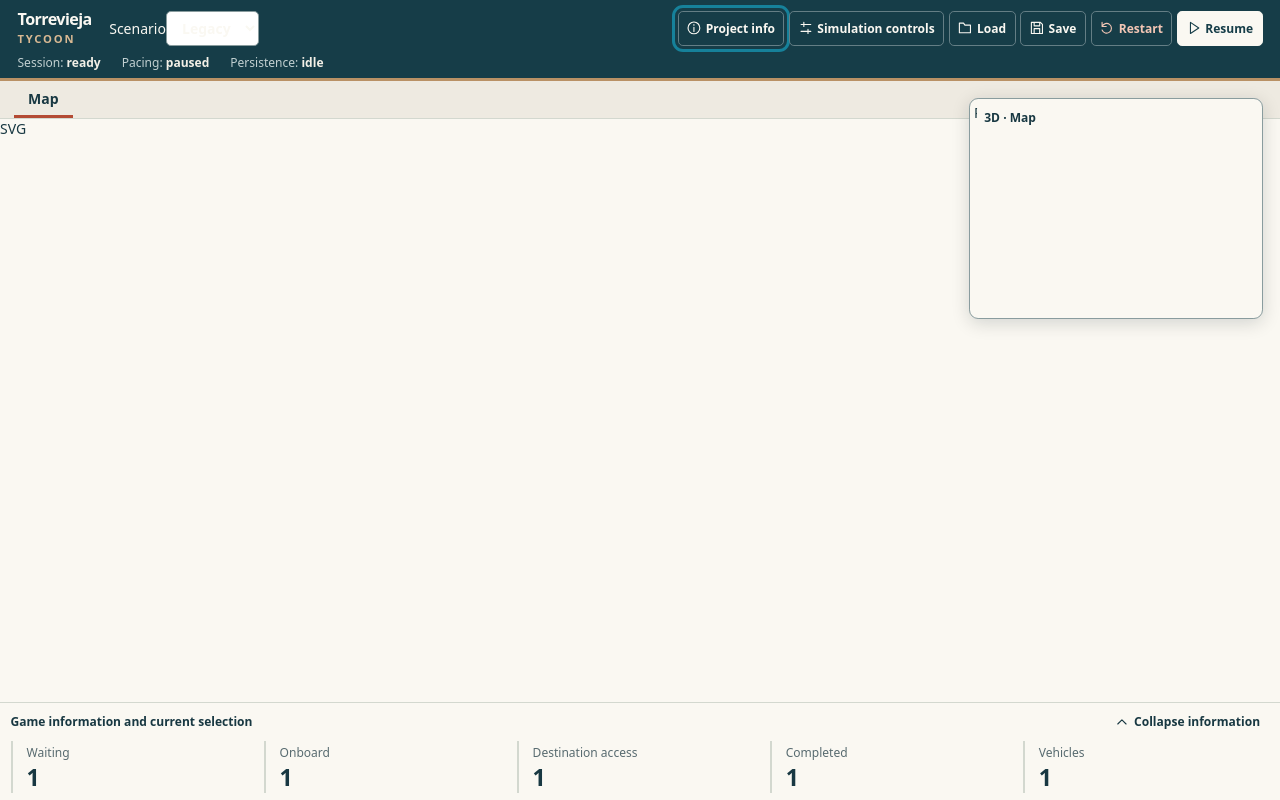
Scenario: opens Project info accessibly, closes with Escape, and returns focus
Click the button "Project info" at [731, 28], box [678,11,784,46]
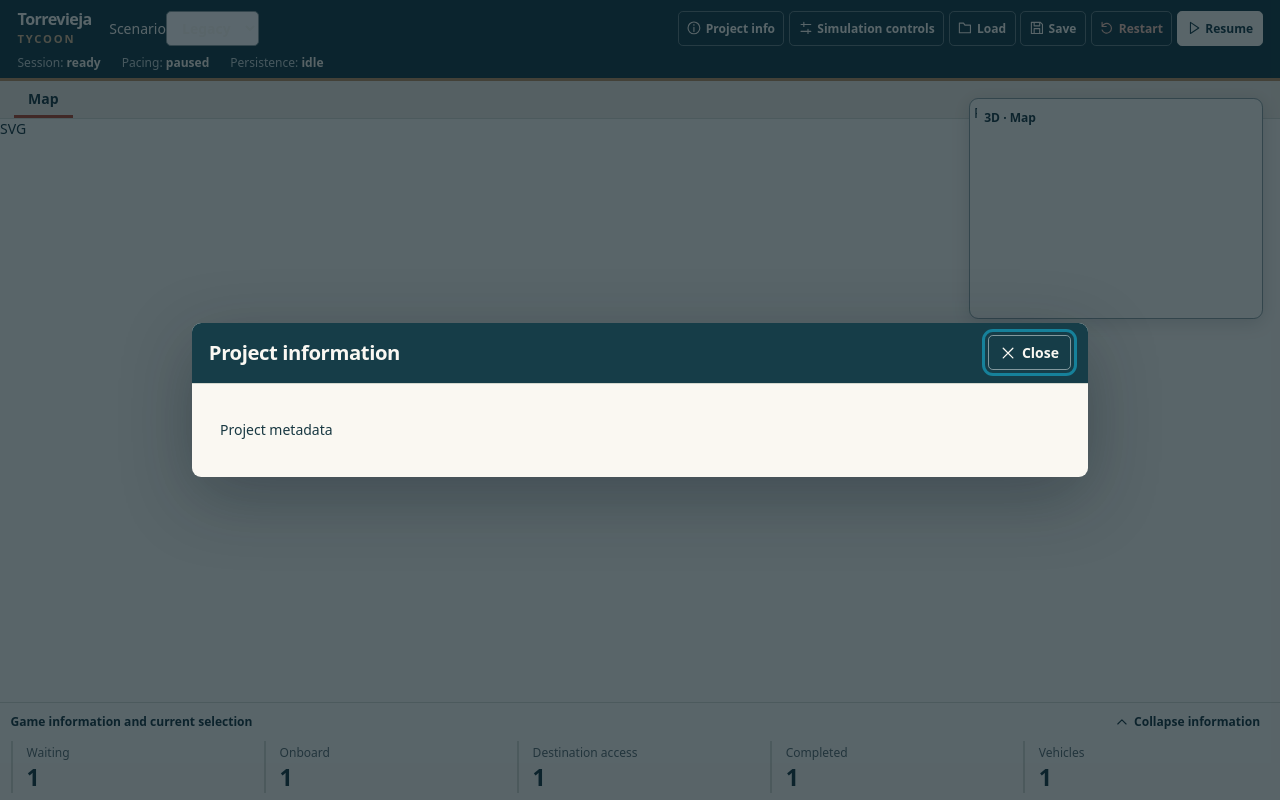
Now the dialog "Project information" shows "Project metadata", box [220,420,333,439]
Press Escape
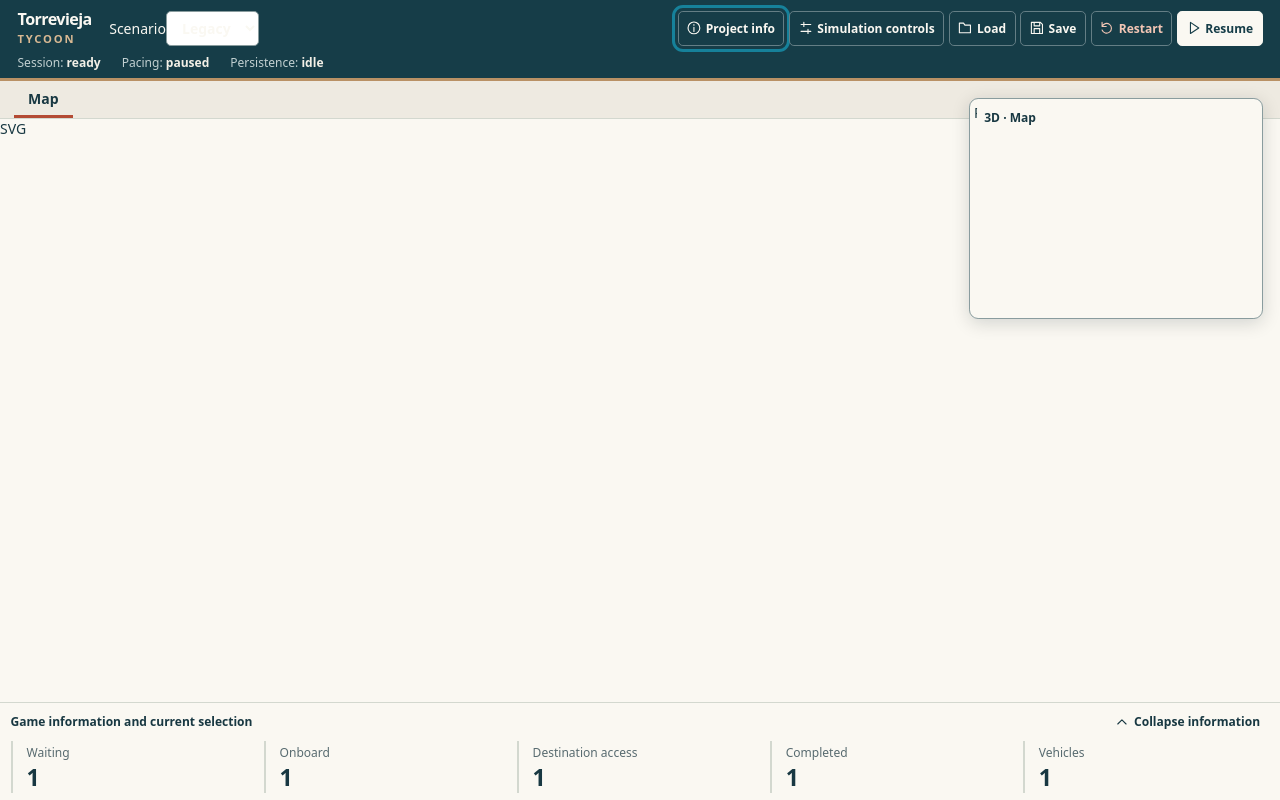
Now the heading "Project information" is gone
